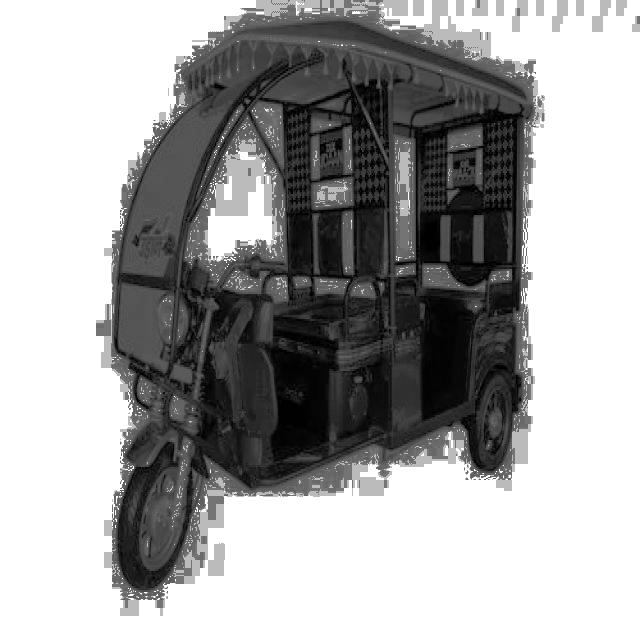Toto: (107, 22, 543, 606)
